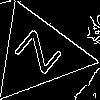Z: (13, 29, 72, 82)
